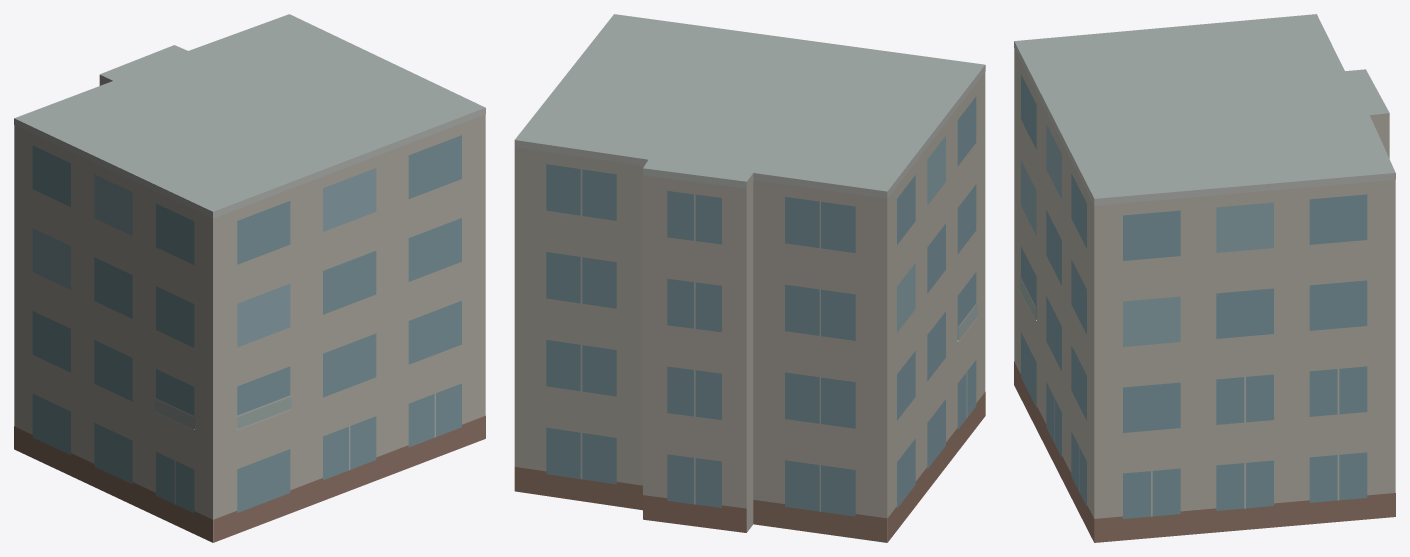
The model's file is survey-upis-32683435.glb.
3 renders of one model, left to right at view 1: azimuth 30°, elevation 25°; view 2: azimuth 150°, elevation 25°; view 3: azimuth 270°, elevation 25°, orthographic. The views are drawn at different scales.
Parts seen in each view (by area): view 1: survey-upis-32683435.tmp; view 2: survey-upis-32683435.tmp; view 3: survey-upis-32683435.tmp.
Part boxes in pixels (<box>): survey-upis-32683435.tmp: <box>14,14,485,542</box>; survey-upis-32683435.tmp: <box>514,14,985,542</box>; survey-upis-32683435.tmp: <box>1014,14,1395,542</box>.
Size of the model in its own units: 14.07 by 12.2 by 12.28.
